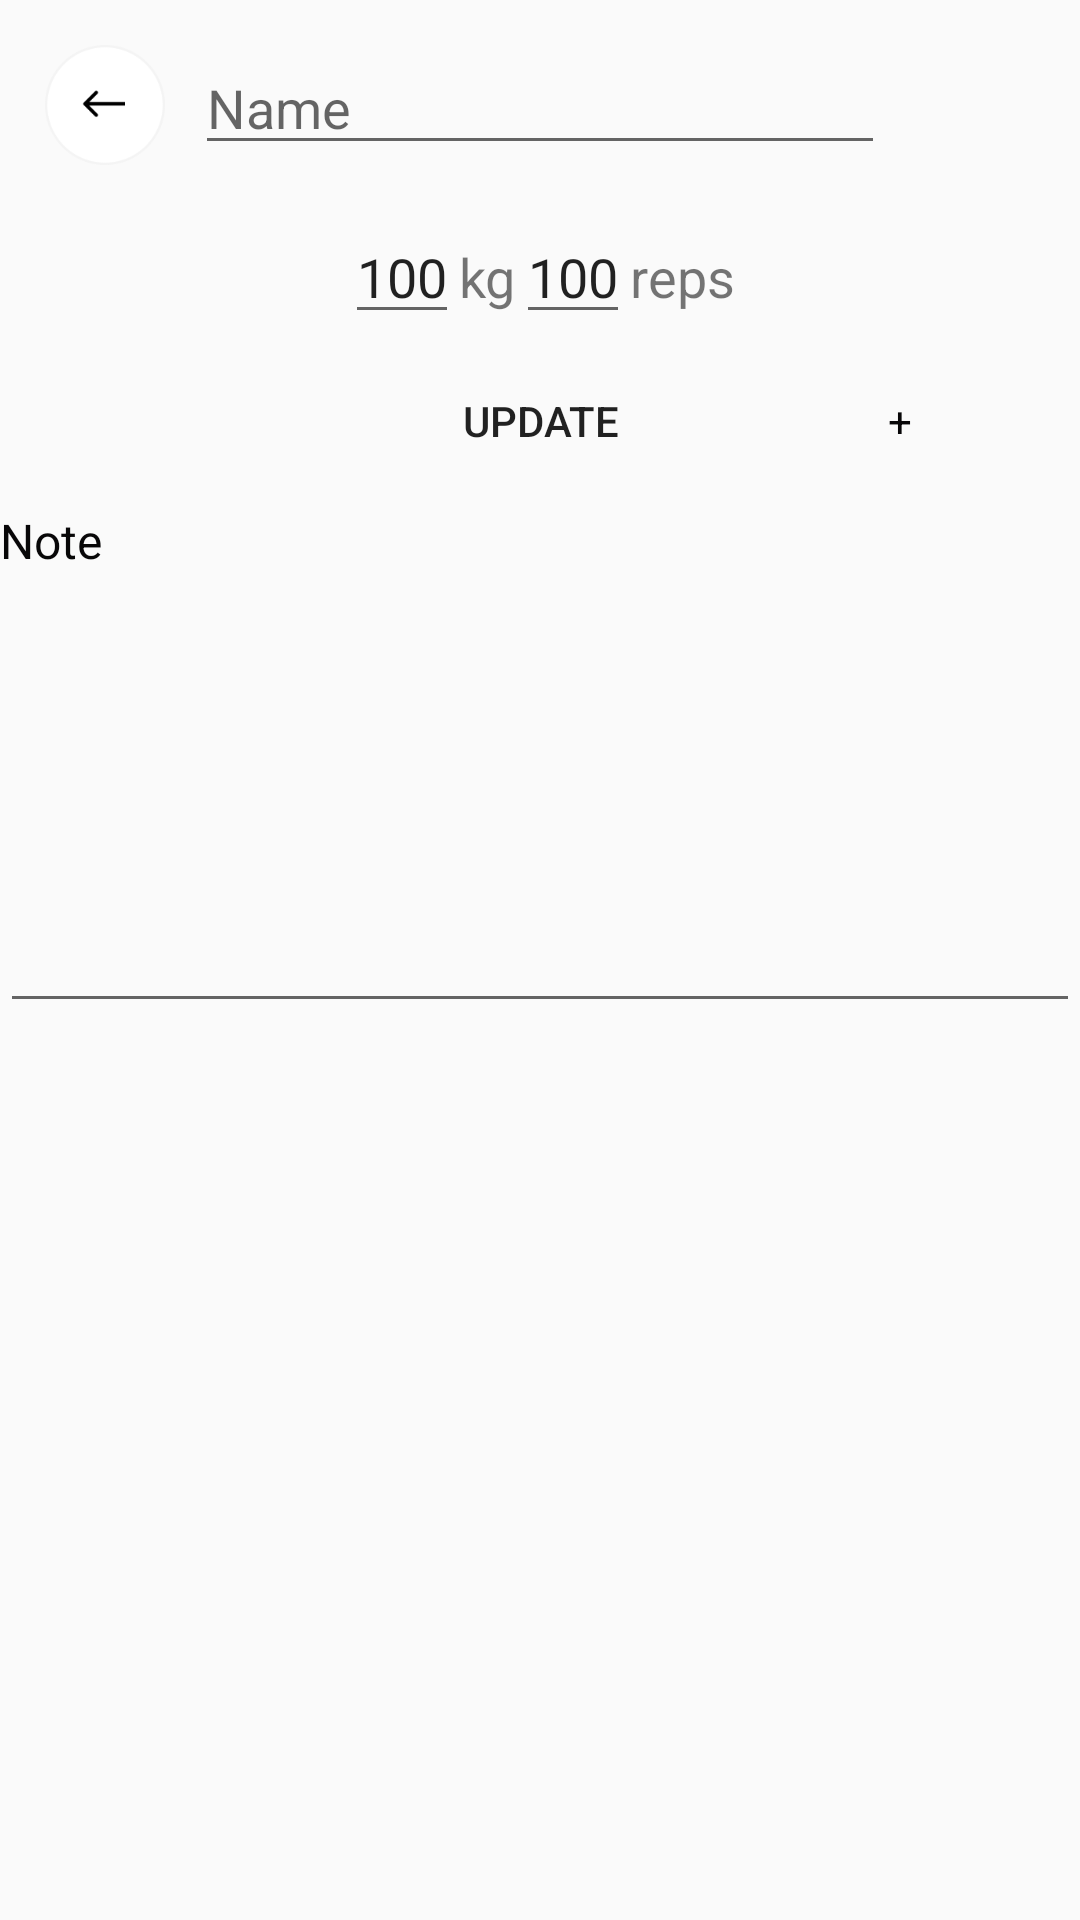

Where icons sit on this 1080w x 1920h app screen, as (x1,y1,x2,y2):
bakcarrow: (83,90,125,117)
